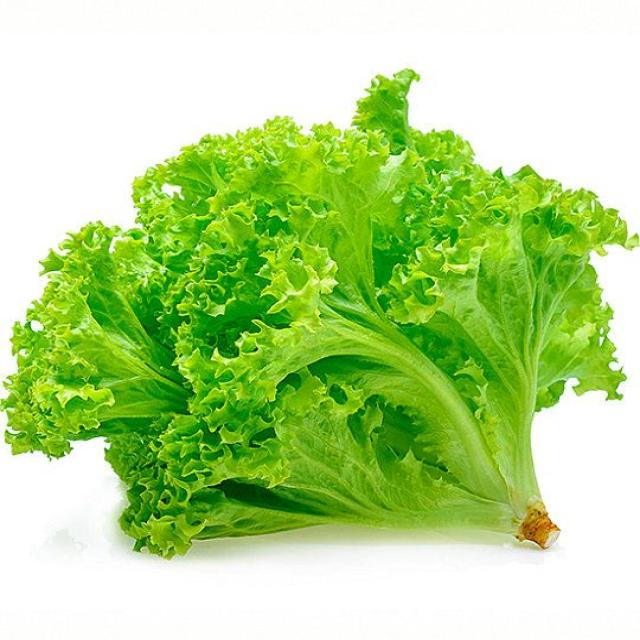lettuce: (3, 71, 632, 556)
